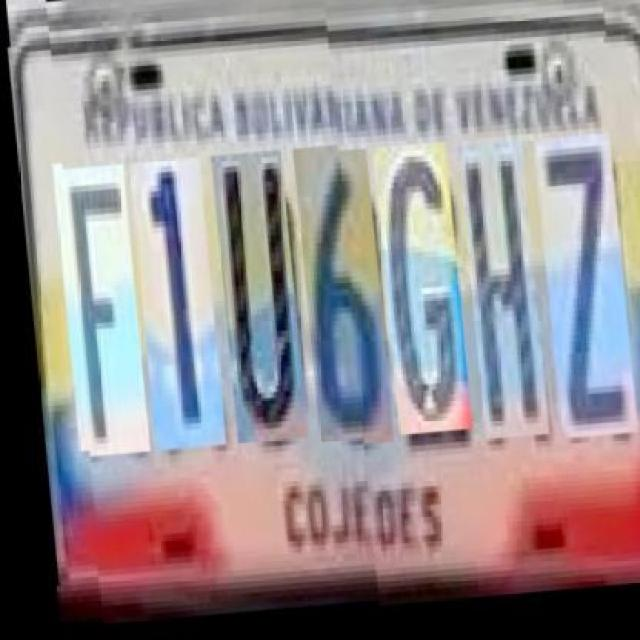1: (125, 160, 217, 452)
6: (288, 148, 384, 447)
f: (49, 166, 142, 459)
g: (368, 143, 463, 435)
h: (453, 144, 539, 442)
u: (207, 155, 299, 447)
z: (528, 139, 628, 443)
